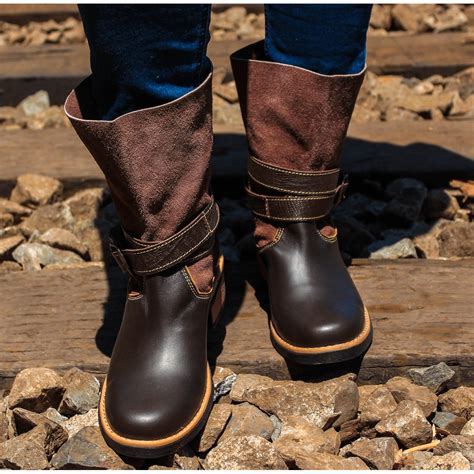cuero: (80, 164, 368, 441)
